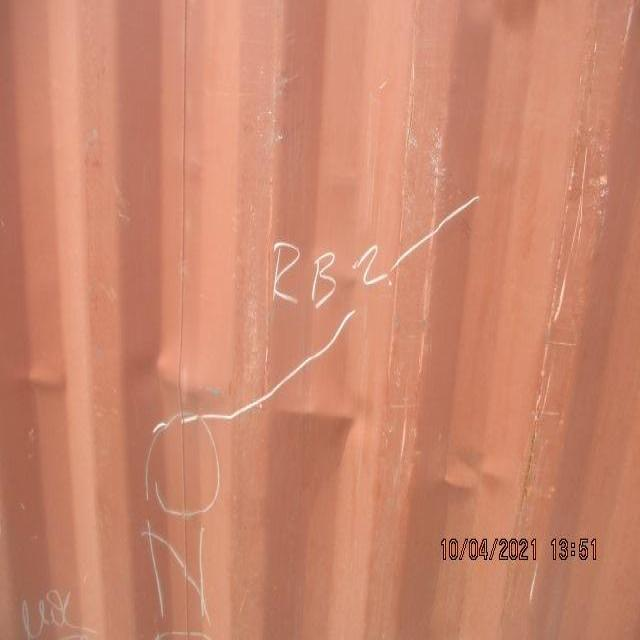dent: (116, 325, 601, 525)
